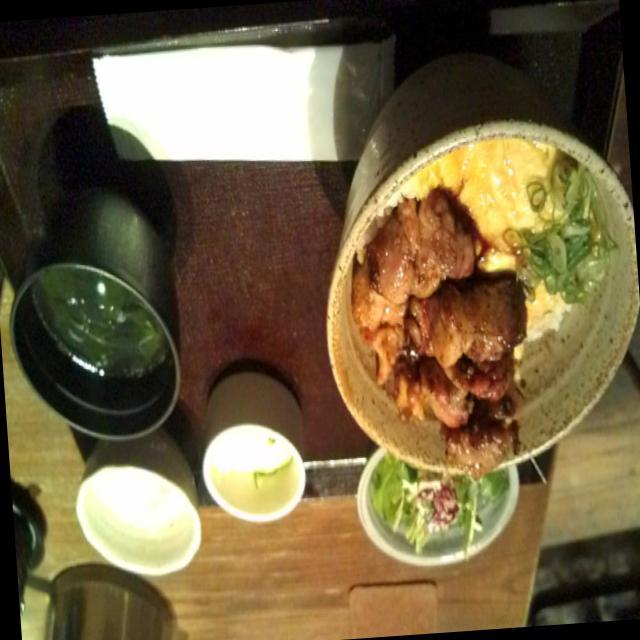Green Salad: (352, 463, 528, 588)
